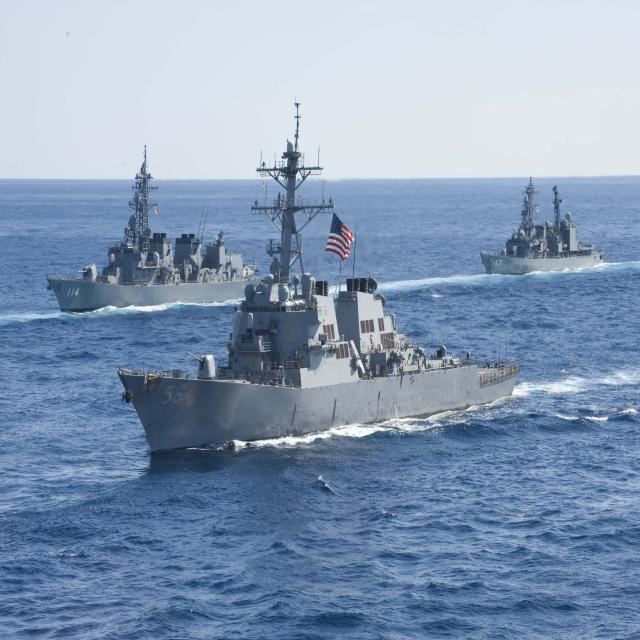navalvessels: (137, 142, 510, 466), (51, 149, 251, 323), (484, 166, 602, 273)
